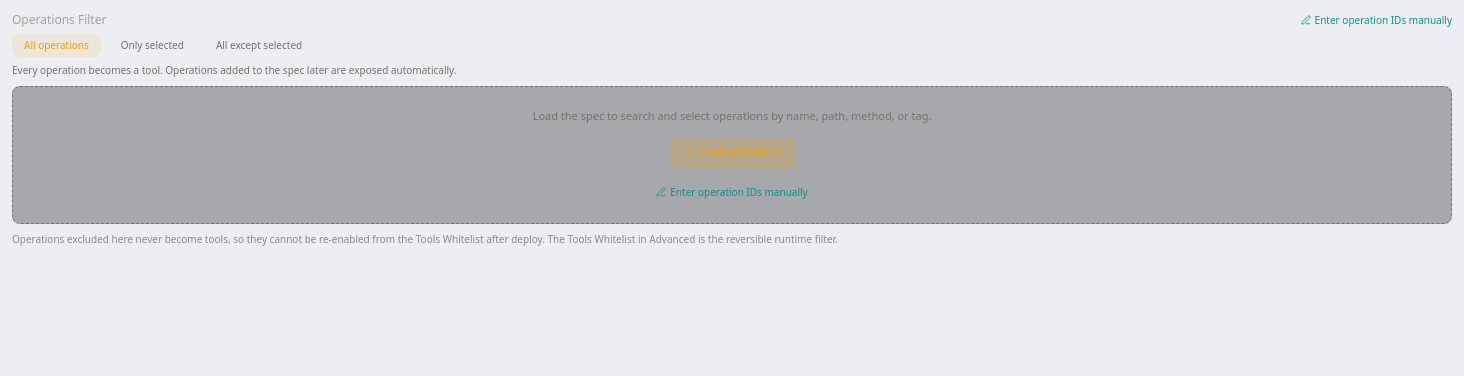
Test case: OperationsPicker › surfaces a structured error with its hint and a manual-entry escape
The image size is (1464, 376).
Step 1. Click the button with aria-label "load operations from the openapi spec" → (732, 152), box [669, 137, 796, 167]
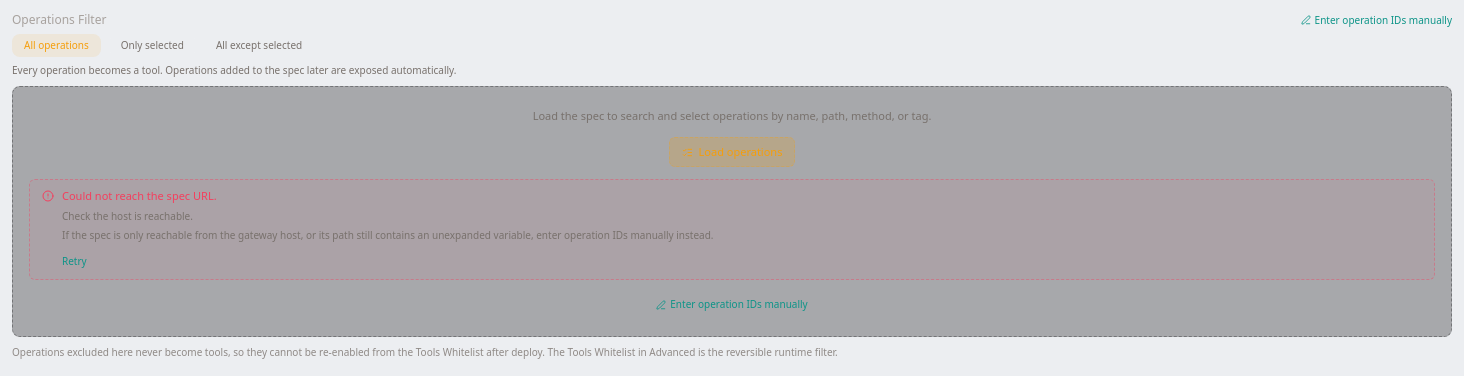
expect the message is shown: met, box [29, 179, 1435, 280]
expect the text "Could not reach the spec URL." is shown: met, box [62, 188, 217, 203]
expect the text "Check the host is reachable." is shown: met, box [62, 209, 193, 223]
